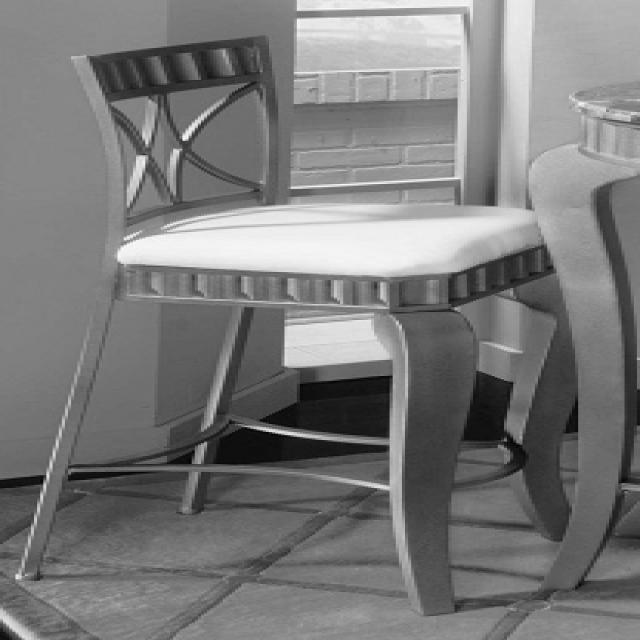chair: (12, 32, 580, 615)
